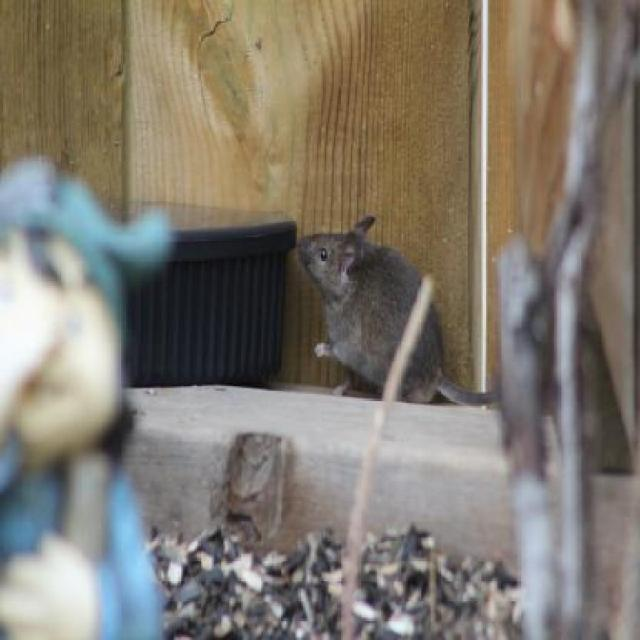Mouse: (295, 214, 451, 412)
